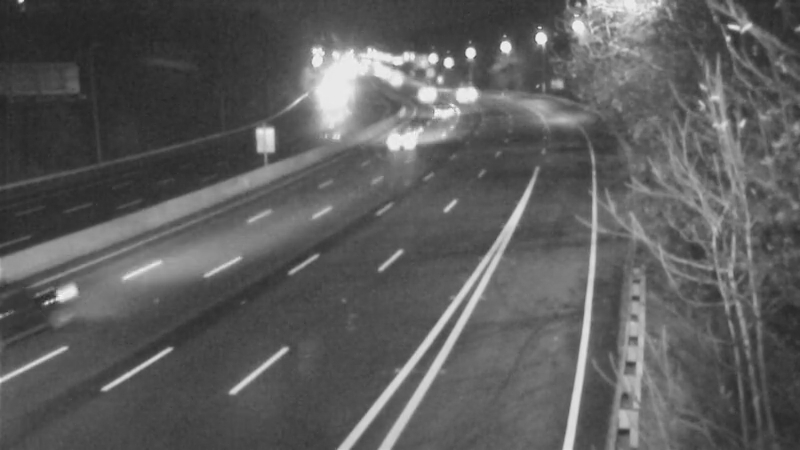vehicle: (1, 254, 96, 364), (403, 68, 453, 118), (436, 66, 486, 116), (424, 83, 474, 133), (367, 115, 417, 165), (308, 72, 358, 122)
